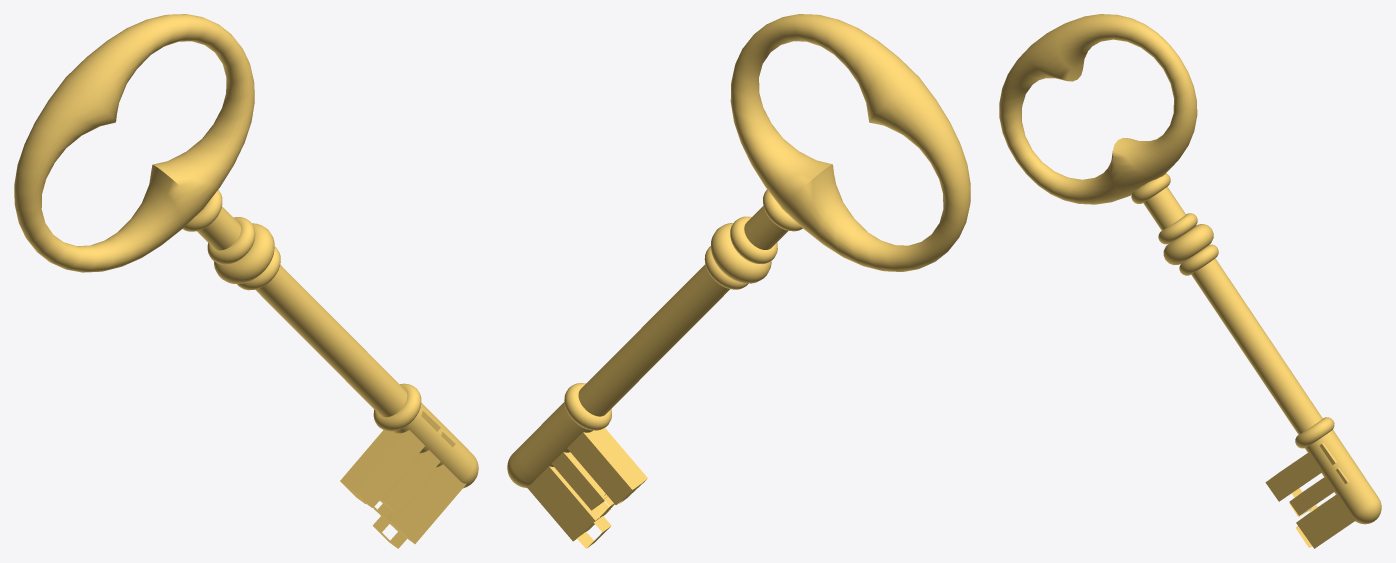
File: key.obj
3 views of the same model, side by side, from view 1: azimuth 30°, elevation 25°; view 2: azimuth 150°, elevation 25°; view 3: azimuth 330°, elevation 25° (orthographic). The views are drawn at different scales.
Parts seen in each view (by area): view 1: Key; view 2: Key; view 3: Key.
Boxes of the visible parts, x1,y1,x2,y2 form: Key: (14, 14, 478, 548); Key: (507, 14, 970, 548); Key: (999, 14, 1381, 548).
Bounding box in the file's own units: 0.4502 × 0.5477 × 0.0576.
